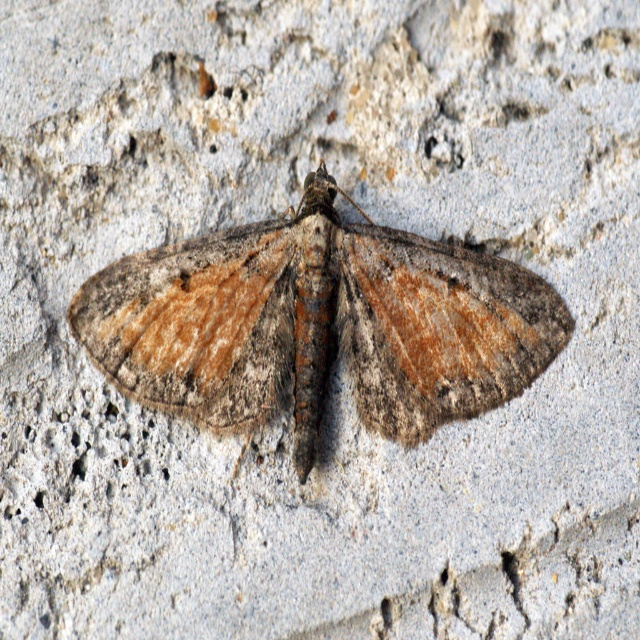Butterfly: (92, 146, 566, 492)
